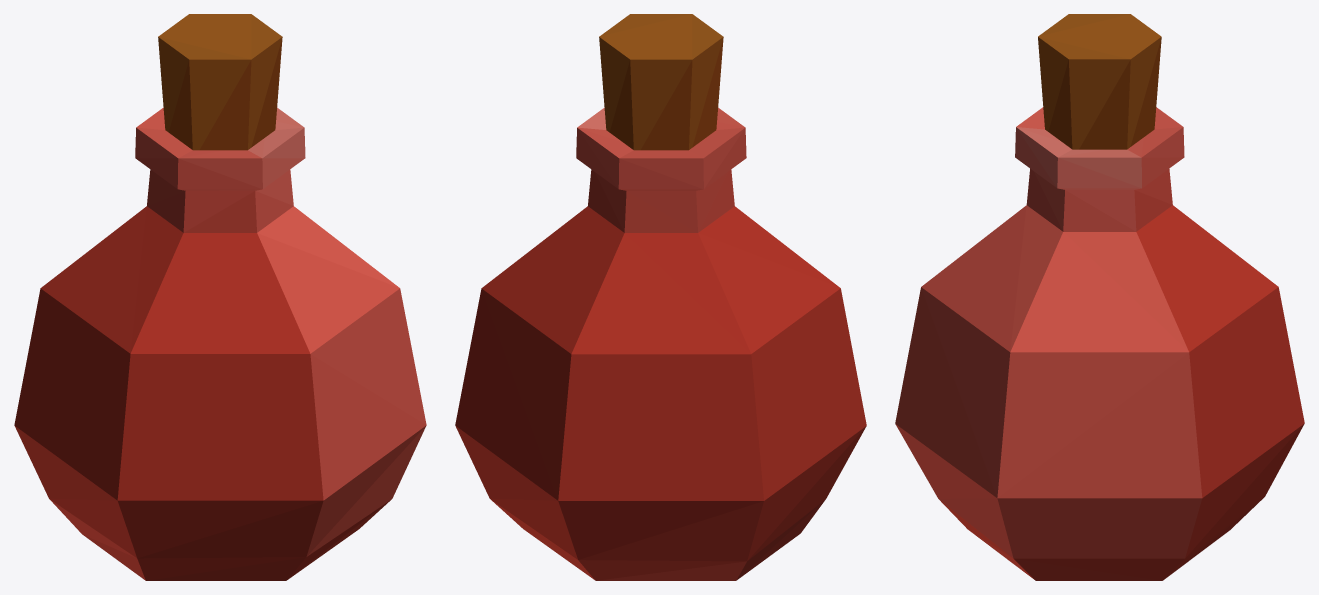
Rendered from prop_bottle_potion_health_5.fbx.
3 renders of one model, left to right at view 1: azimuth 30°, elevation 25°; view 2: azimuth 150°, elevation 25°; view 3: azimuth 270°, elevation 25°, orthographic.
Visible parts, largest first — view 1: prop_bottle_potion_health_5; view 2: prop_bottle_potion_health_5; view 3: prop_bottle_potion_health_5.
Part boxes in pixels (x1=…): prop_bottle_potion_health_5: x1=14, y1=14, x2=426, y2=580; prop_bottle_potion_health_5: x1=455, y1=14, x2=866, y2=580; prop_bottle_potion_health_5: x1=895, y1=14, x2=1304, y2=580.
Bounding box in the file's own units: 0.532 × 0.8155 × 0.6136.
